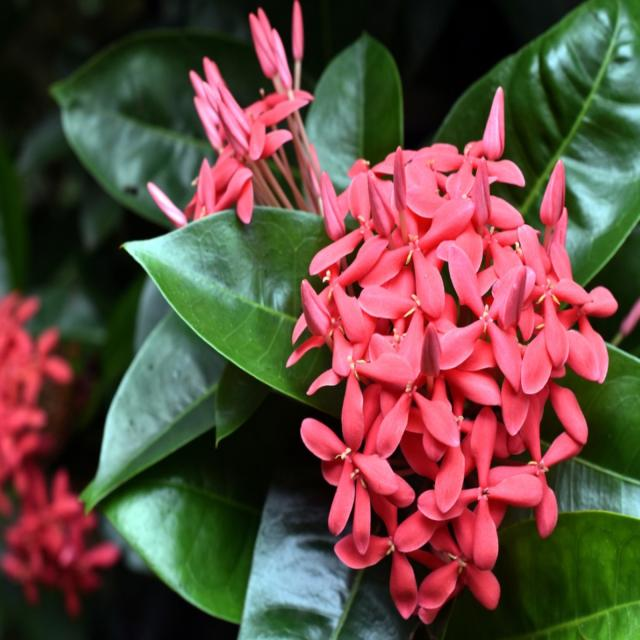Chinese-Ixora: (283, 81, 620, 625), (144, 0, 326, 231), (0, 282, 121, 616)
